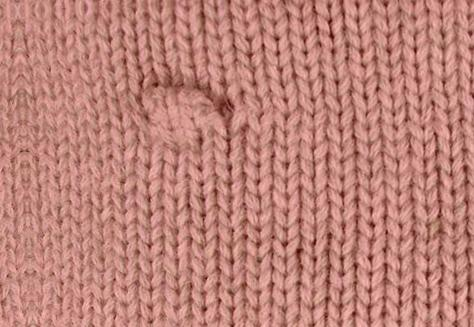knot: (134, 83, 234, 160)
